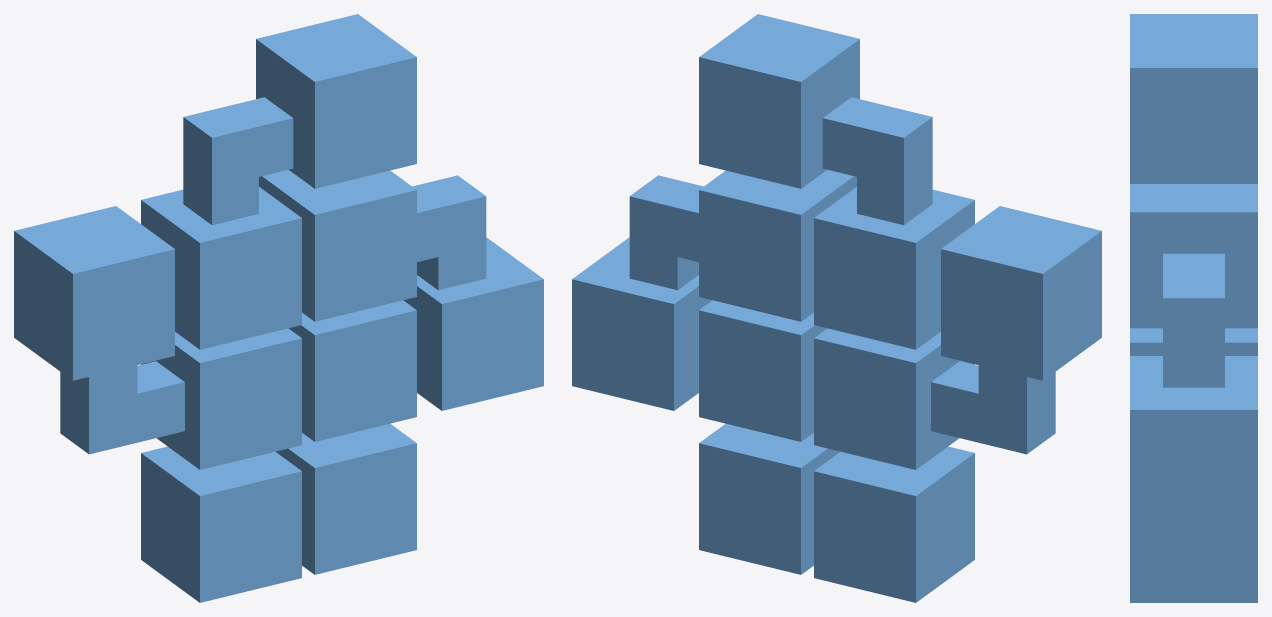
File: botik.glb
The picture shows the model from 3 angles, left to right: view 1: azimuth 30°, elevation 25°; view 2: azimuth 150°, elevation 25°; view 3: azimuth 270°, elevation 25°; orthographic projection. The views are drawn at different scales.
Parts seen in each view (by area): view 1: WristRight, Head, LegRight, BodyTopRight, WristLeft, BodyTopLeft, LegLeft, BodyBottomRight, BodyBottomLeft, Neck, ShoulderRight, ShoulderLeft; view 2: WristRight, Head, LegRight, BodyTopRight, WristLeft, BodyTopLeft, LegLeft, BodyBottomRight, BodyBottomLeft, Neck, ShoulderRight, ShoulderLeft; view 3: Head, WristLeft, BodyTopLeft, LegLeft, ShoulderLeft, BodyBottomLeft.
Boxes of the visible parts, x1,y1,x2,y2 form: WristRight: [14, 206, 174, 380]; Head: [256, 14, 416, 188]; LegRight: [141, 446, 301, 602]; BodyTopRight: [141, 187, 301, 349]; WristLeft: [403, 237, 543, 410]; BodyTopLeft: [259, 169, 416, 321]; LegLeft: [276, 424, 416, 574]; BodyBottomRight: [141, 328, 301, 469]; BodyBottomLeft: [289, 300, 416, 441]; Neck: [183, 97, 293, 225]; ShoulderRight: [60, 361, 184, 454]; ShoulderLeft: [412, 175, 486, 290]; WristRight: [941, 206, 1101, 380]; Head: [699, 14, 859, 188]; LegRight: [814, 446, 974, 602]; BodyTopRight: [814, 187, 974, 349]; WristLeft: [572, 237, 712, 410]; BodyTopLeft: [699, 169, 856, 321]; LegLeft: [699, 424, 839, 574]; BodyBottomRight: [814, 328, 974, 469]; BodyBottomLeft: [699, 300, 826, 441]; Neck: [822, 97, 932, 225]; ShoulderRight: [931, 361, 1055, 454]; ShoulderLeft: [629, 175, 703, 290]; Head: [1130, 14, 1257, 183]; WristLeft: [1130, 356, 1257, 525]; BodyTopLeft: [1130, 184, 1257, 328]; LegLeft: [1130, 526, 1257, 602]; ShoulderLeft: [1163, 253, 1224, 387]; BodyBottomLeft: [1130, 328, 1257, 355].
Bounding box in the file's own units: 2.98 × 2.98 × 0.647.
